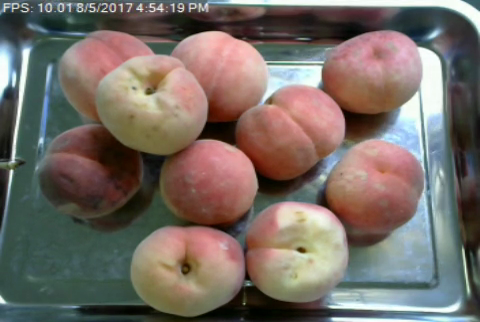Peach: (128, 224, 245, 318), (243, 203, 350, 303), (99, 55, 205, 155), (235, 85, 344, 181), (53, 28, 154, 128), (324, 138, 423, 236), (41, 121, 140, 217), (321, 27, 422, 115), (174, 30, 271, 121), (159, 138, 258, 225)
